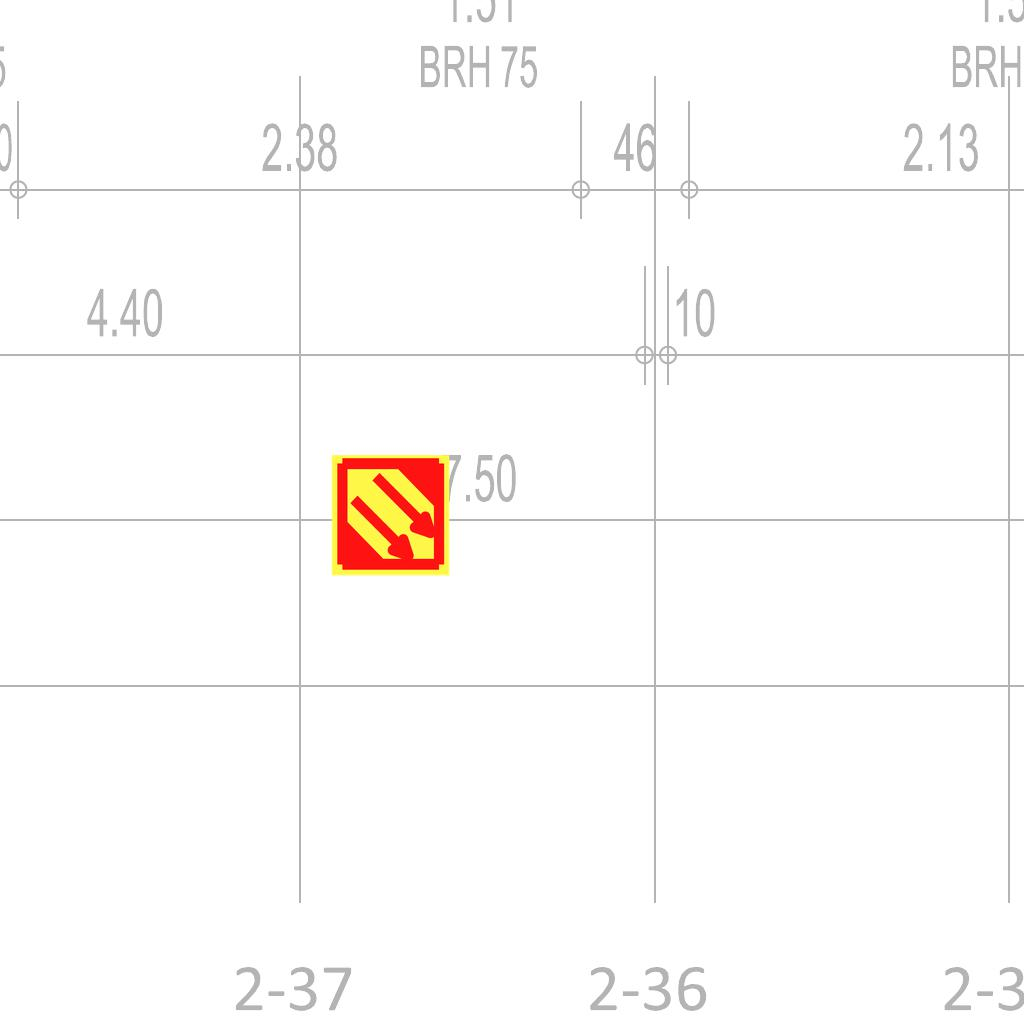ASR_Ansaugrauchmelder: (328, 453, 453, 578)
